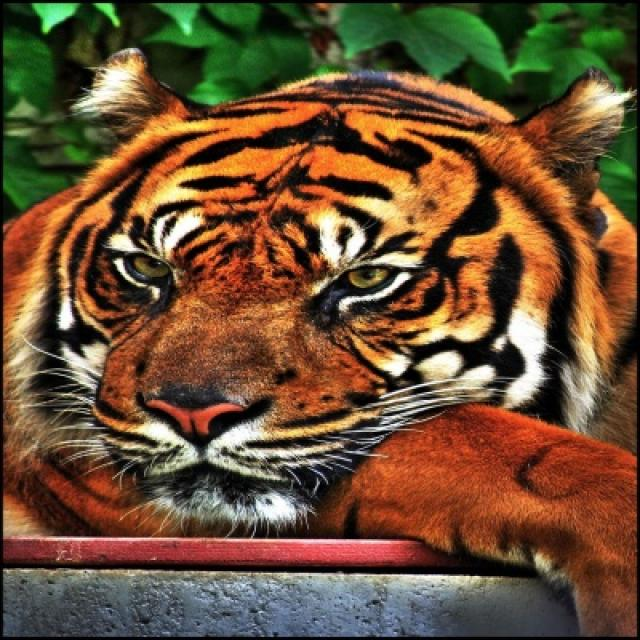Tiger: (4, 40, 638, 632)
